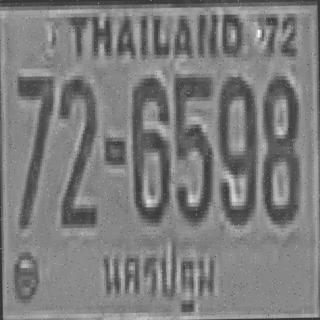N02: (57, 71, 97, 224)
N05: (173, 71, 213, 220)
N06: (129, 74, 169, 219)
N07: (15, 72, 55, 225)
N08: (260, 72, 298, 221)
N09: (217, 72, 257, 222)
P28: (98, 235, 221, 320)
